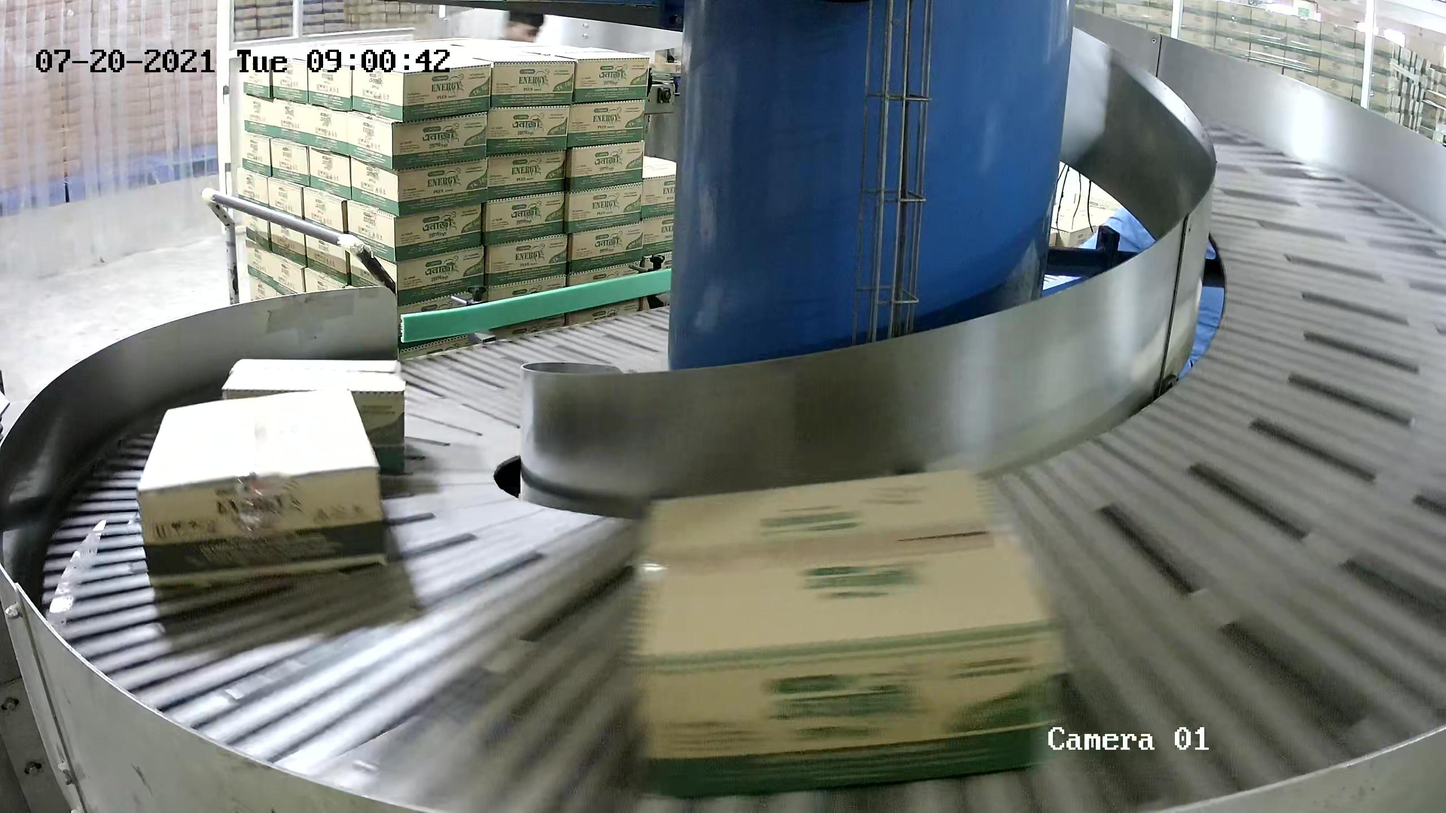Box: (631, 462, 1070, 796), (134, 387, 396, 596), (220, 354, 411, 486)
